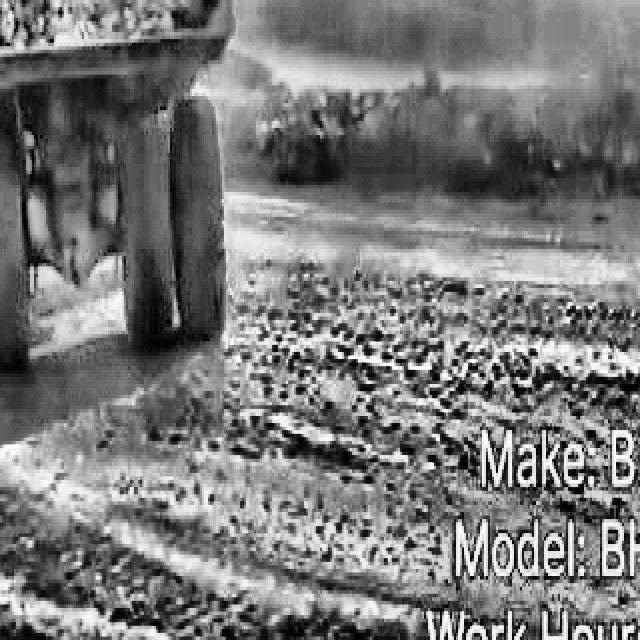dump_truck: (0, 0, 242, 345)
